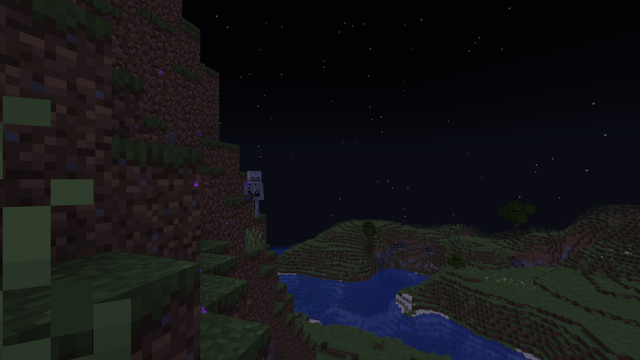squelettes: (244, 171, 263, 218)
